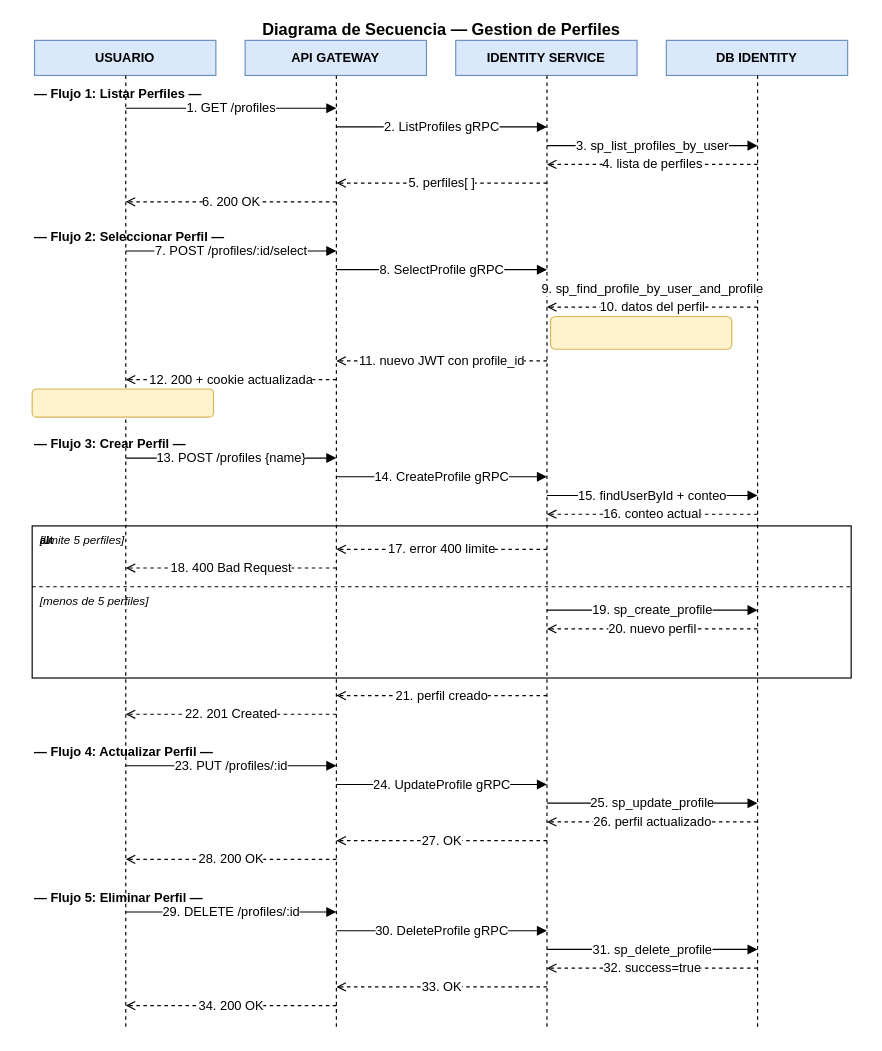
Some shapes in this 882 by 1051 pixel diagram are drawn without their labels. Here are the shapes that lost their labels. From the top down, the centre of each, then its label:
(640,332): signIdentityToken con profile_id → nuevo JWT
(122,402): refresh() → navigate /catalog
